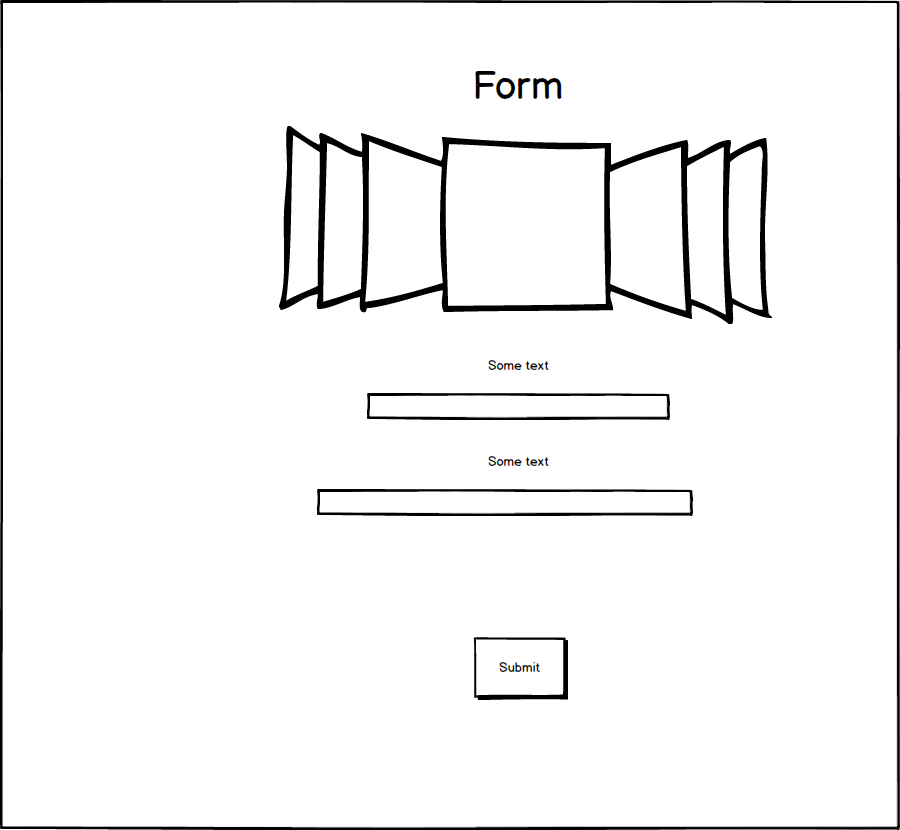button: (464, 631, 580, 709)
h1: (463, 64, 577, 107)
input: (359, 386, 680, 430), (309, 485, 704, 519)
label: (482, 349, 553, 381), (477, 447, 561, 474)
slideshow: (265, 119, 789, 334)
